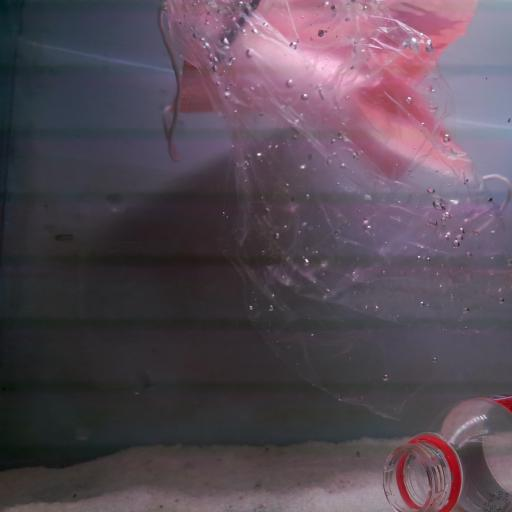mask: (139, 0, 492, 188)
plastic_bag: (153, 0, 512, 405)
plastic_bottle: (373, 410, 511, 512)
